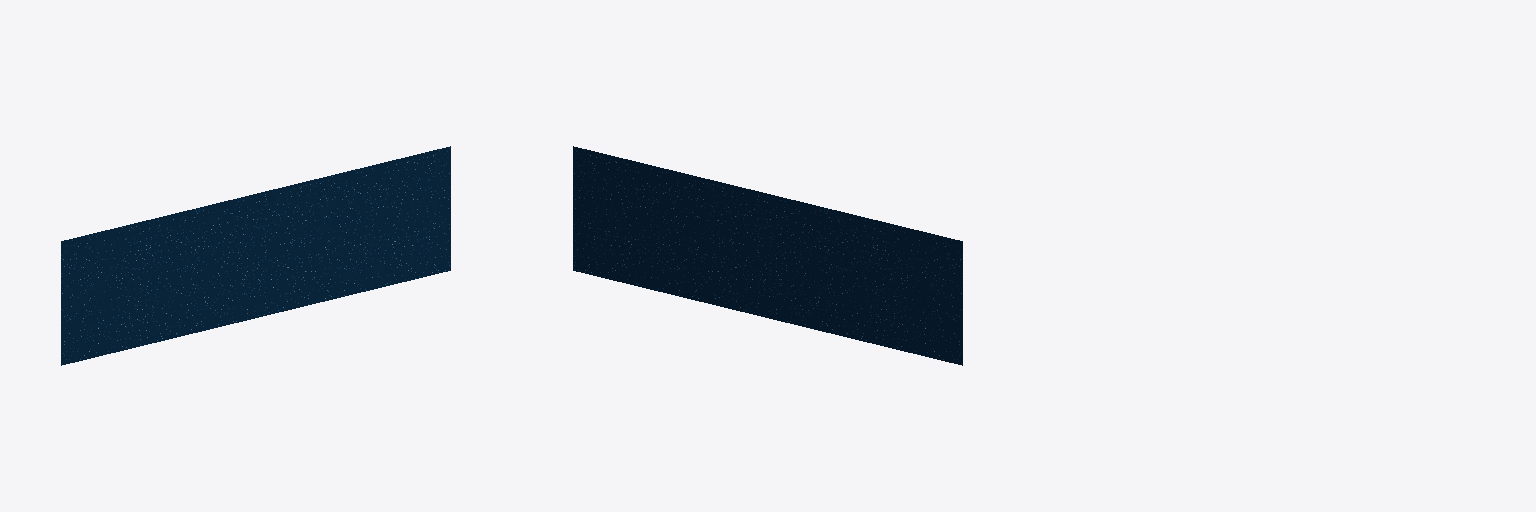
3 views of the same model, side by side, from view 1: azimuth 30°, elevation 25°; view 2: azimuth 150°, elevation 25°; view 3: azimuth 270°, elevation 25° (orthographic).
Size of the model in its own units: 1735 by 529 by 0.
1 materials, 1 textured.